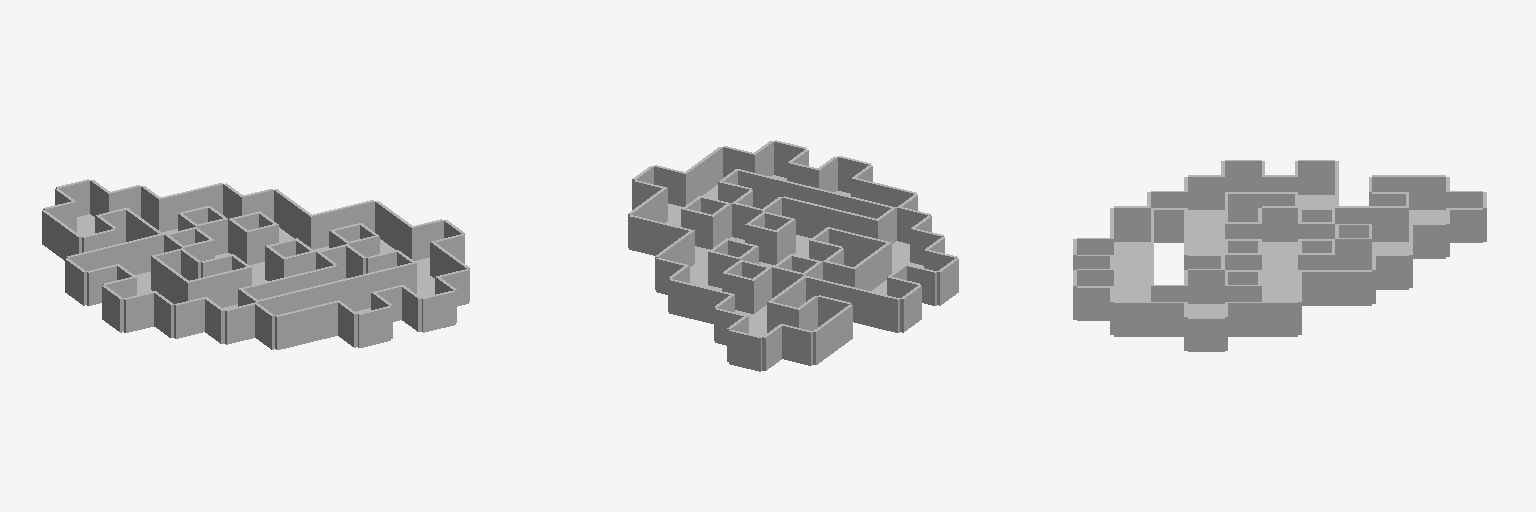
The model's file is dcrawler.obj.
3 views of the same model, side by side, from view 1: azimuth 30°, elevation 25°; view 2: azimuth 150°, elevation 25°; view 3: azimuth 270°, elevation 25° (orthographic).
Visible parts, largest first — view 1: Plane; view 2: Plane; view 3: Plane.
Part boxes in pixels (x1,y1,x2,y2): Plane: (42, 179, 469, 349); Plane: (628, 140, 958, 371); Plane: (1073, 160, 1486, 351).
Bounding box in the file's own units: 20.4 × 2 × 22.4.